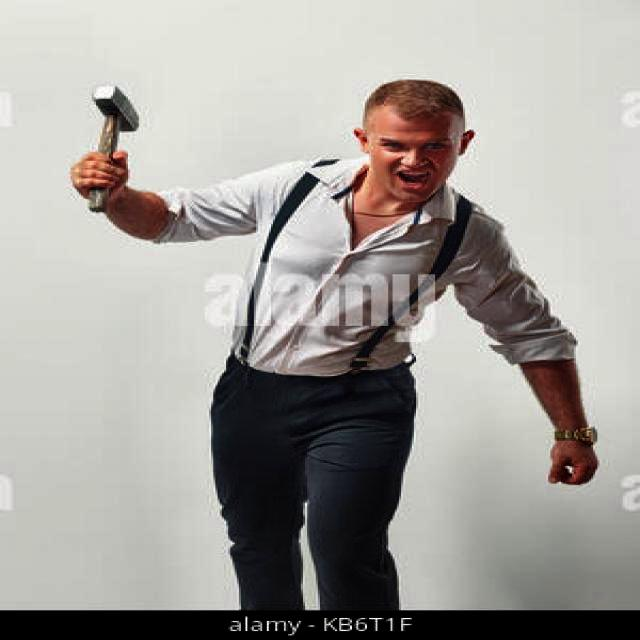hammer: (57, 77, 152, 211)
